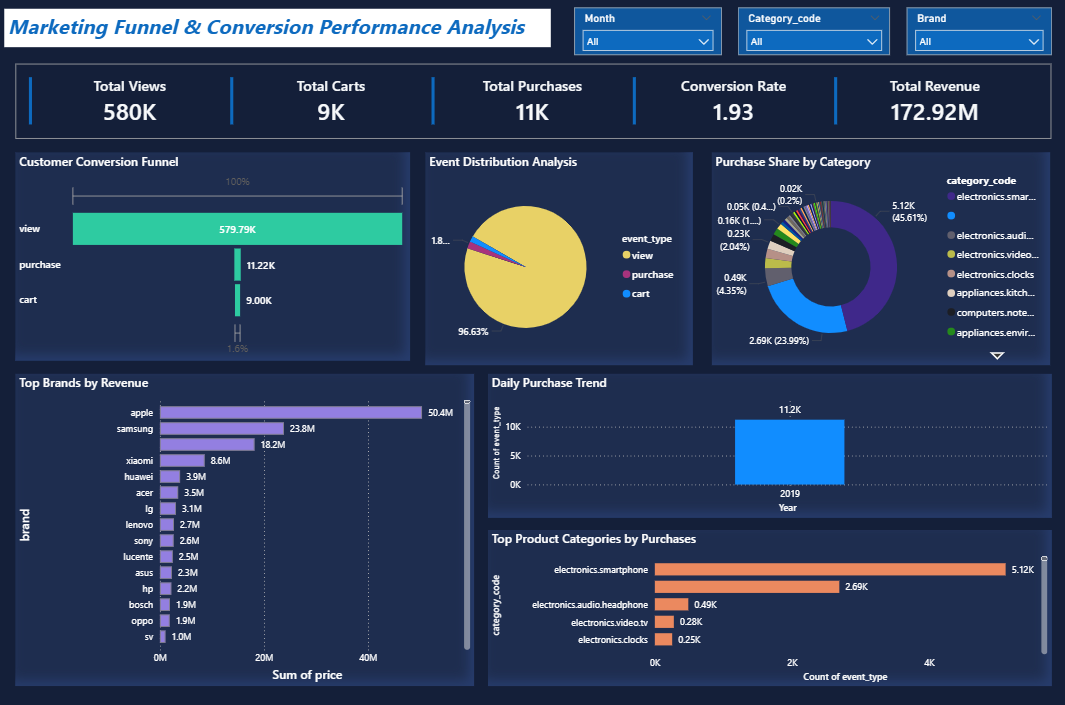

Layout of this report page (visuals, bound fields, positions):
{"tool":"powerbi","page":{"name":"Page 1","canvas":[1400,930],"ordinal":0},"visuals":[{"type":"textbox","box":[8.4,12.1,716.6,50.7],"z":0},{"type":"cardVisual","fields":{"Data":["marketing_funnel_cleaned.Total Views","marketing_funnel_cleaned.Total Carts","marketing_funnel_cleaned.Total Purchases","marketing_funnel_cleaned.Conversion Rate","marketing_funnel_cleaned.Total Revenue"]},"box":[22.6,82.9,1358.8,98],"z":1000},{"type":"slicer","fields":{"Values":["marketing_funnel_cleaned.month"]},"box":[755.8,9.3,193.2,62.3],"z":2000},{"type":"slicer","fields":{"Values":["marketing_funnel_cleaned.brand"]},"box":[1192.1,9.3,190.1,62.3],"z":3000},{"type":"slicer","fields":{"Values":["marketing_funnel_cleaned.category_code"]},"box":[970.8,9.3,199.5,62.3],"z":4000},{"type":"funnel","title":"Customer Conversion Funnel","fields":{"Category":["marketing_funnel_cleaned.event_type"],"Y":["CountNonNull(marketing_funnel_cleaned.event_type)"]},"box":[23.4,199.5,517.4,272.7],"z":5000},{"type":"pieChart","title":"Event Distribution Analysis","fields":{"Category":["marketing_funnel_cleaned.event_type"],"Y":["CountNonNull(marketing_funnel_cleaned.event_type)"]},"box":[561,199.5,350.6,278.9],"z":6000},{"type":"clusteredBarChart","title":"Top Product Categories by Purchases","fields":{"Category":["marketing_funnel_cleaned.category_code"],"Y":["CountNonNull(marketing_funnel_cleaned.event_type)"]},"box":[642.4,695.2,738.9,205.1],"z":7000},{"type":"clusteredBarChart","title":"Top Brands by Revenue","fields":{"Category":["marketing_funnel_cleaned.brand"],"Y":["Sum(marketing_funnel_cleaned.price)"]},"box":[23.4,490.9,601.5,409.8],"z":8000},{"type":"clusteredColumnChart","title":"Daily Purchase Trend","fields":{"Category":["marketing_funnel_cleaned.date.Variation.Date Hierarchy.Year","marketing_funnel_cleaned.date.Variation.Date Hierarchy.Quarter","marketing_funnel_cleaned.date.Variation.Date Hierarchy.Month","marketing_funnel_cleaned.date.Variation.Date Hierarchy.Day"],"Y":["CountNonNull(marketing_funnel_cleaned.event_type)"]},"box":[642.4,490.1,738.9,188.5],"z":9000},{"type":"donutChart","title":"Purchase Share by Category","fields":{"Category":["marketing_funnel_cleaned.category_code"],"Y":["CountNonNull(marketing_funnel_cleaned.event_type)"]},"box":[936.5,199.5,444.1,278.9],"z":10000}]}

Visuals, with their boxes in screenshot pixels (x1, y1, x2, y2), scaled from the page's 1400x930 canvas onto the 1065x705 screenshot:
textbox: 6:9:552:48
cardVisual - marketing_funnel_cleaned.Total Views x marketing_funnel_cleaned.Total Carts: 17:63:1051:137
slicer - marketing_funnel_cleaned.month: 575:7:722:54
slicer - marketing_funnel_cleaned.brand: 907:7:1051:54
slicer - marketing_funnel_cleaned.category_code: 739:7:890:54
"Customer Conversion Funnel" funnel: 18:151:411:358
"Event Distribution Analysis" pieChart: 427:151:693:363
"Top Product Categories by Purchases" clusteredBarChart: 489:527:1051:682
"Top Brands by Revenue" clusteredBarChart: 18:372:475:683
"Daily Purchase Trend" clusteredColumnChart: 489:372:1051:514
"Purchase Share by Category" donutChart: 712:151:1050:363
